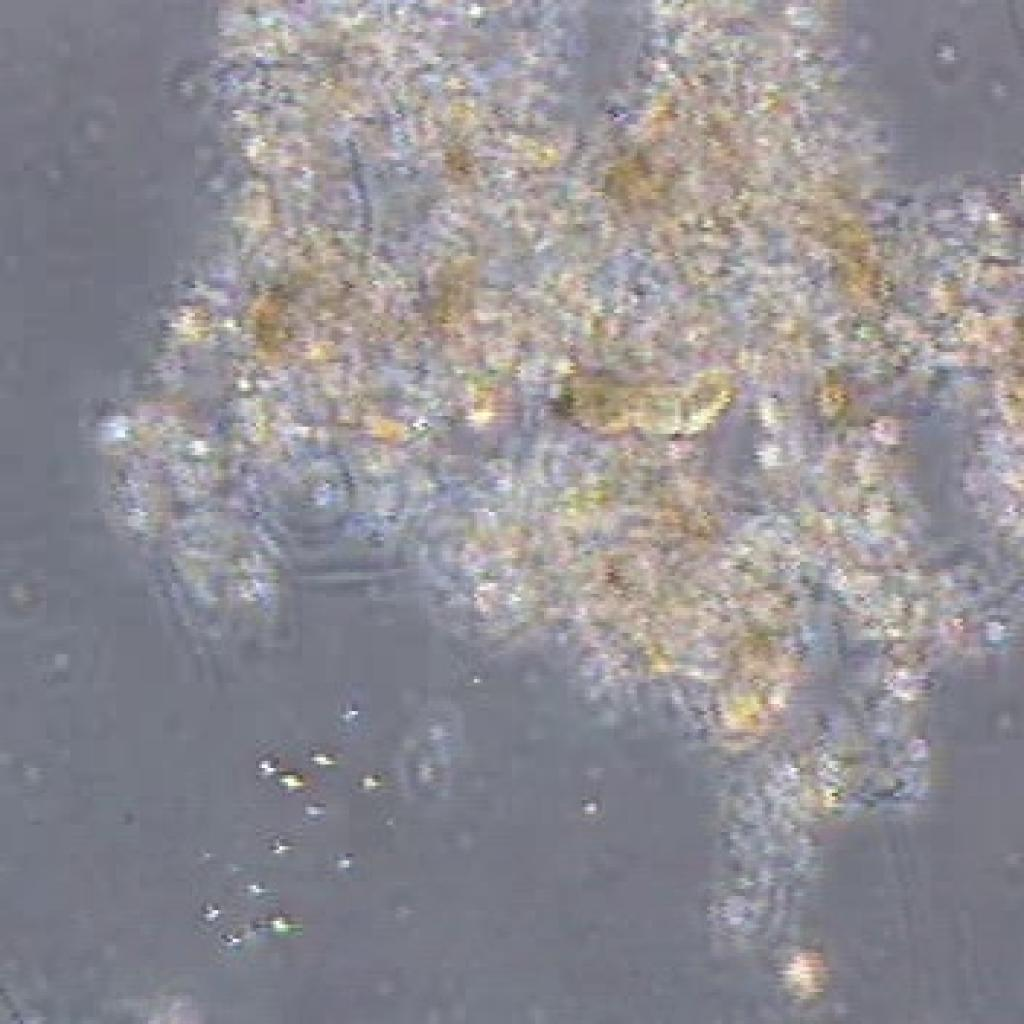Chaetonotus: (545, 363, 752, 448)
